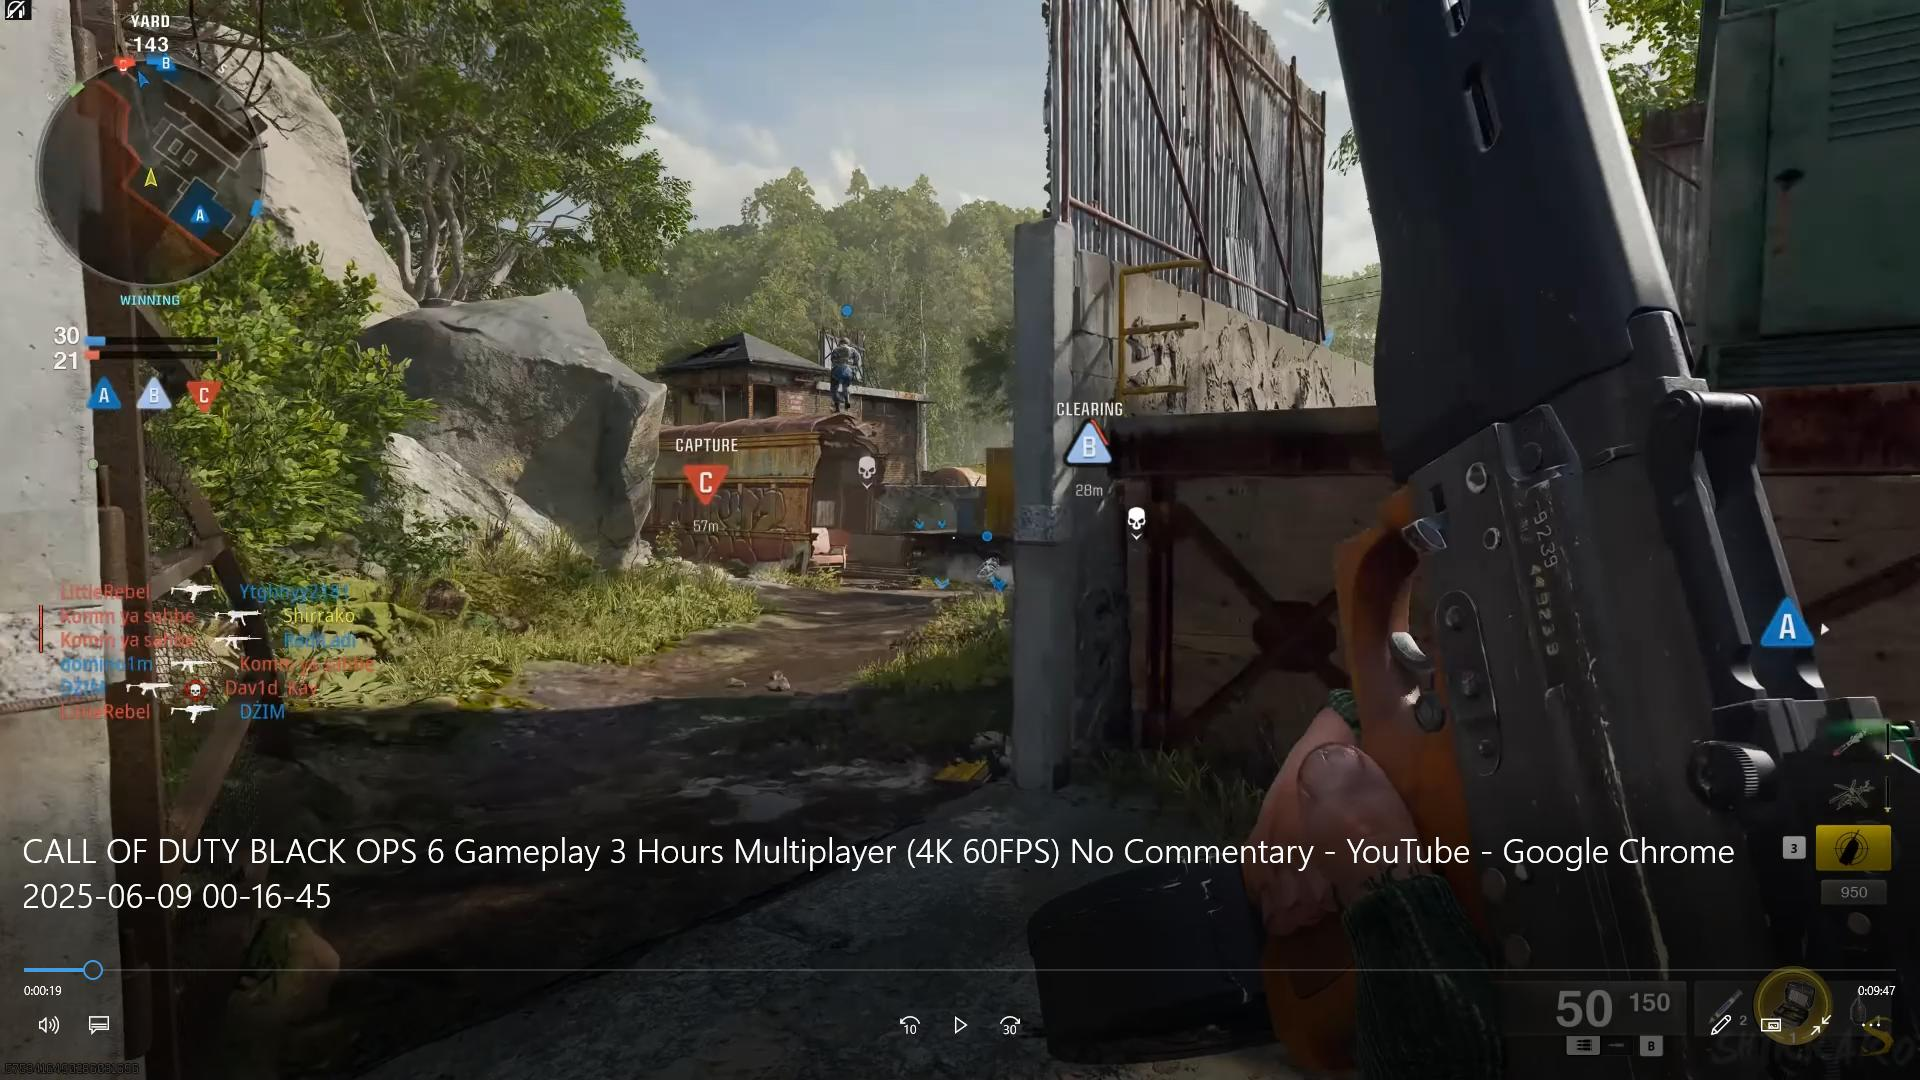Enemy: (822, 332, 864, 413)
